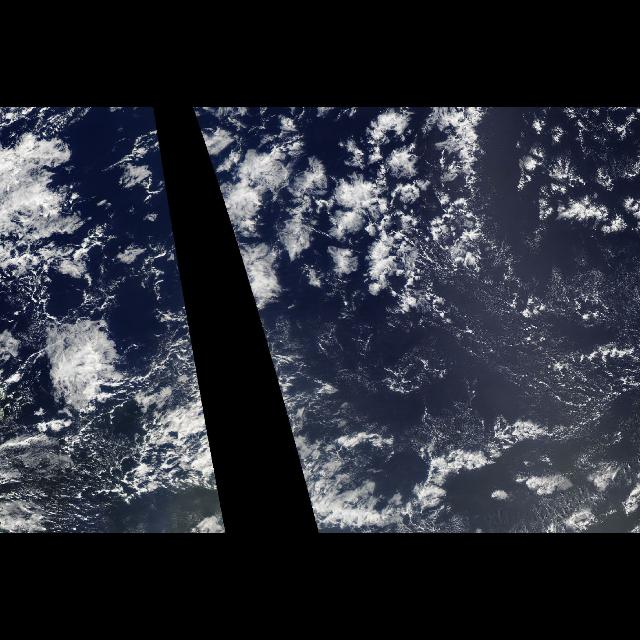Fish: (272, 363, 636, 531)
Flower: (194, 111, 514, 355), (170, 207, 197, 356)
